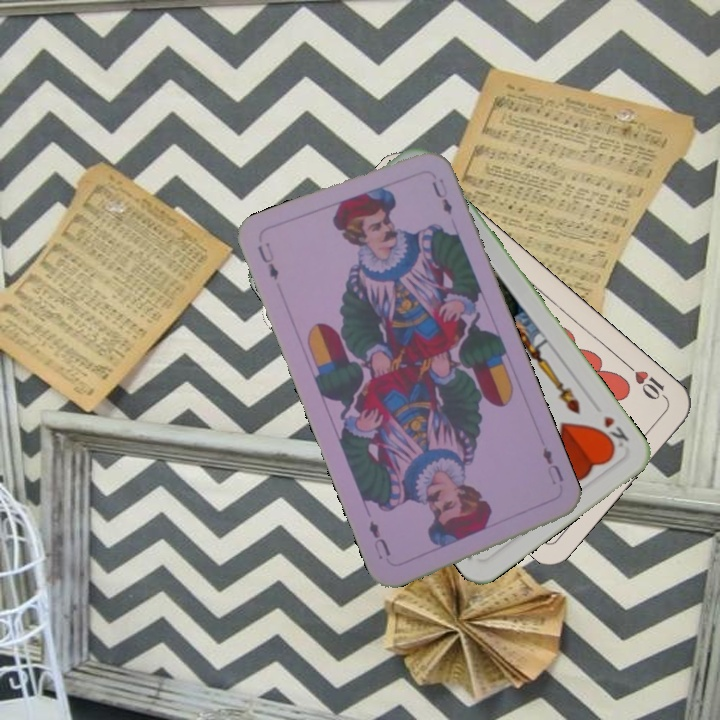EU: (538, 443, 567, 486), (253, 241, 282, 283)
H10: (622, 359, 670, 403)
HK: (594, 411, 632, 455)
